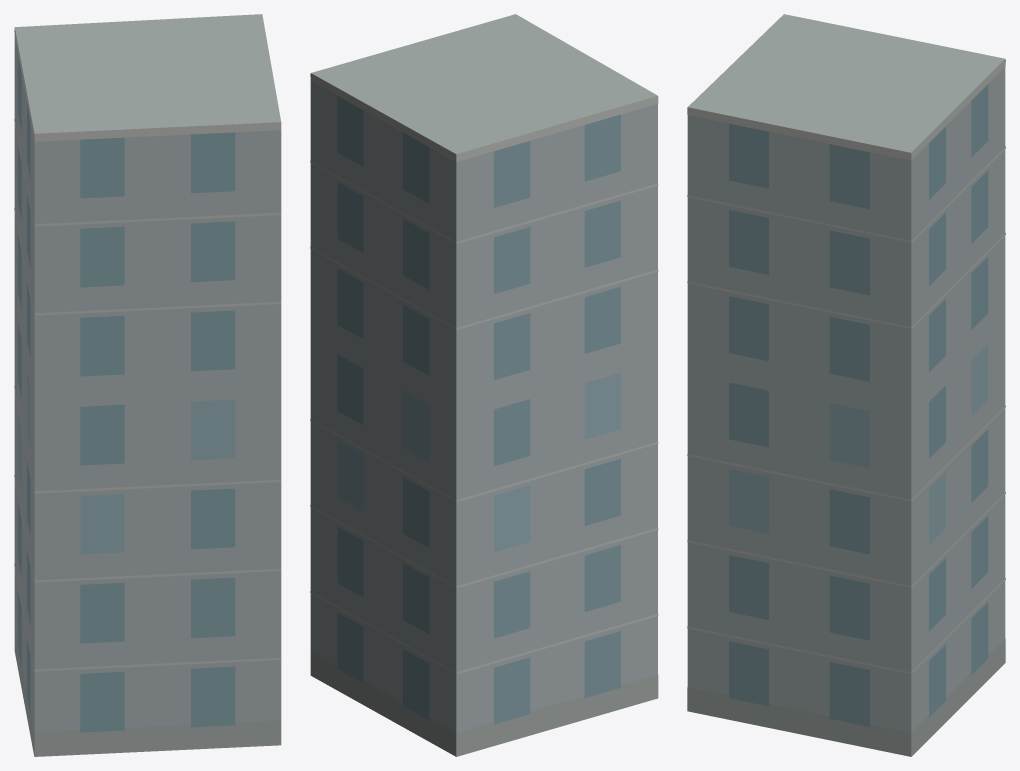
File: survey-upis-32534805.glb
3 views of the same model, side by side, from view 1: azimuth 30°, elevation 25°; view 2: azimuth 150°, elevation 25°; view 3: azimuth 270°, elevation 25° (orthographic). The views are drawn at different scales.
Visible parts, largest first — view 1: survey-upis-32534805.tmp; view 2: survey-upis-32534805.tmp; view 3: survey-upis-32534805.tmp.
Boxes of the visible parts, x1,y1,x2,y2 form: survey-upis-32534805.tmp: (14,14,281,756); survey-upis-32534805.tmp: (310,14,658,756); survey-upis-32534805.tmp: (687,14,1005,756).
Bounding box in the file's own units: 9.29 × 18.8 × 8.99.
